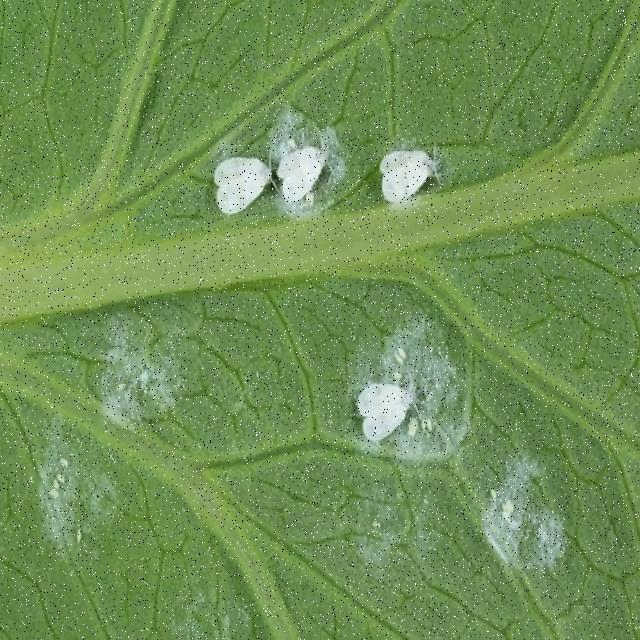Whiteflies: (270, 125, 340, 235), (102, 316, 171, 418), (348, 367, 426, 450), (204, 130, 268, 231), (379, 127, 443, 216)
